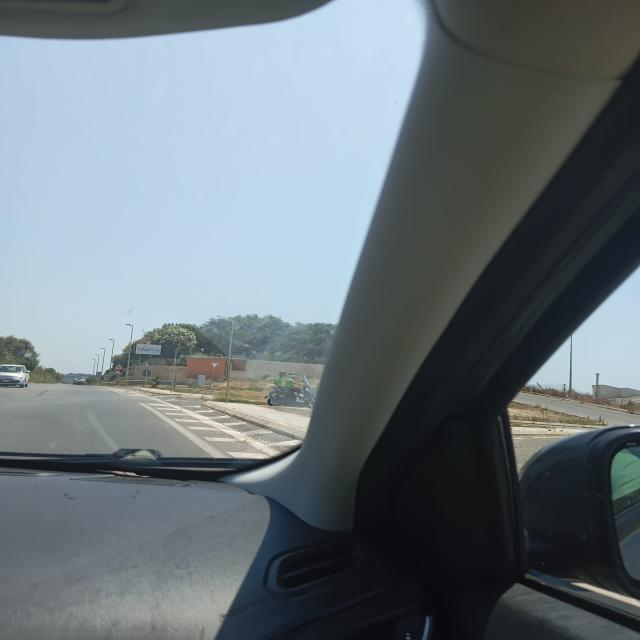prio_give_way: (210, 361, 221, 369)
